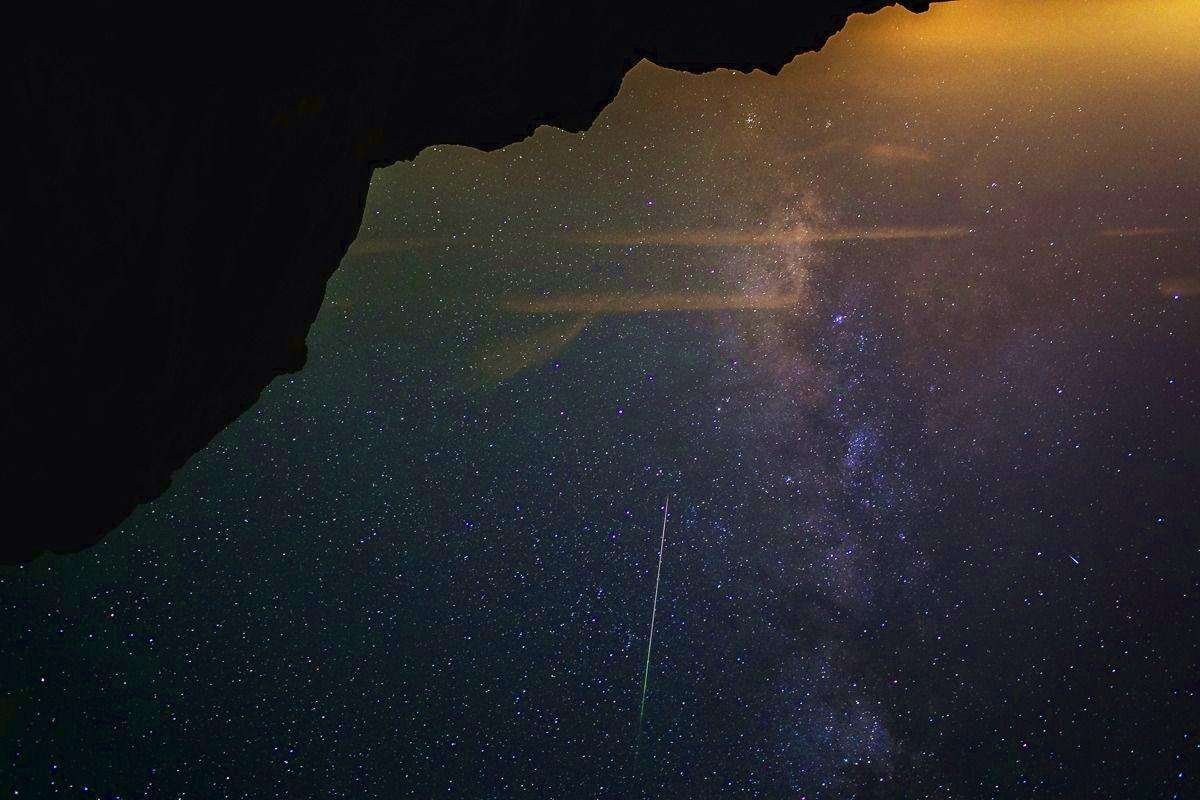meteorite: (612, 454, 676, 770)
